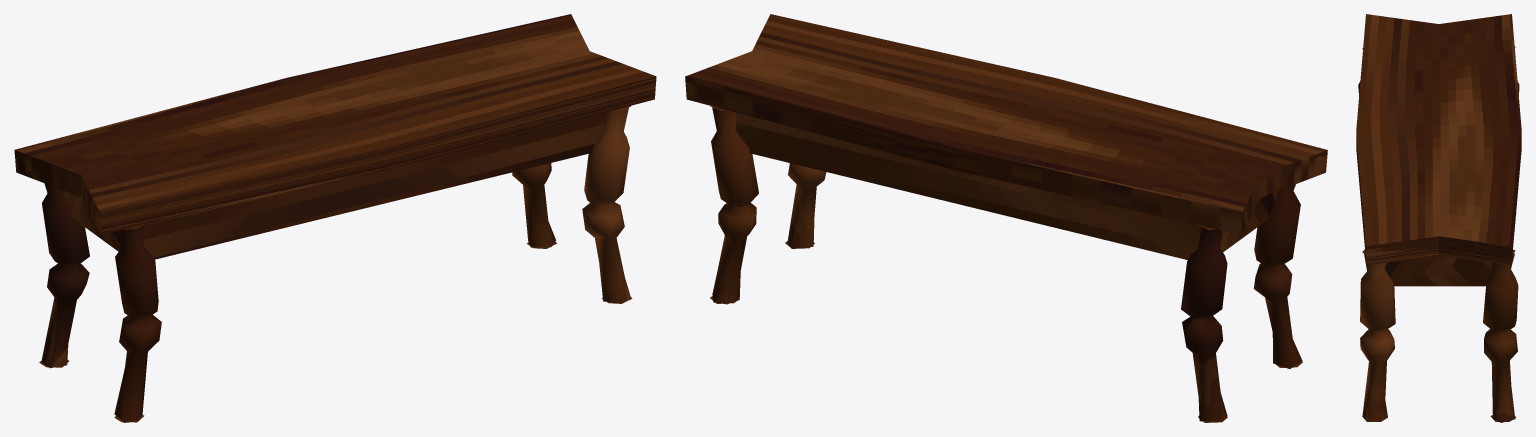
Rendered from TableLow.fbx.
The picture shows the model from 3 angles, left to right: view 1: azimuth 30°, elevation 25°; view 2: azimuth 150°, elevation 25°; view 3: azimuth 270°, elevation 25°; orthographic projection. The views are drawn at different scales.
Parts seen in each view (by area): view 1: Bench; view 2: Bench; view 3: Bench.
Boxes of the visible parts, x1=… form: Bench: x1=14, y1=14, x2=656, y2=422; Bench: x1=685, y1=14, x2=1327, y2=422; Bench: x1=1356, y1=14, x2=1521, y2=422.
Bounding box in the file's own units: 1.5 × 0.559 × 0.4504.
